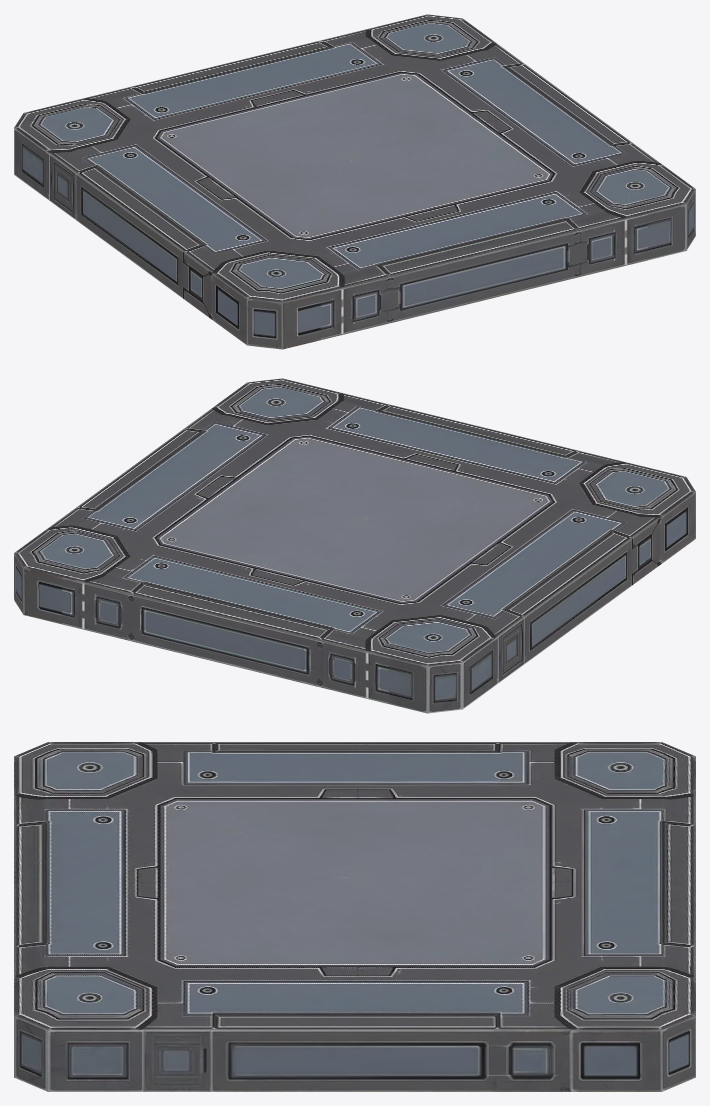
The model's file is floor_3.glb.
The picture shows the model from 3 angles, top to bottom: view 1: azimuth 30°, elevation 25°; view 2: azimuth 150°, elevation 25°; view 3: azimuth 270°, elevation 25°; orthographic projection. The views are drawn at different scales.
Parts seen in each view (by area): view 1: mesh_node; view 2: mesh_node; view 3: mesh_node.
Boxes of the visible parts, left/top/right/bottom form: mesh_node: left=14, top=14, right=695, bottom=349; mesh_node: left=14, top=378, right=695, bottom=713; mesh_node: left=14, top=742, right=695, bottom=1091.
Bounding box in the file's own units: 2 × 0.2219 × 2.
1 material, 1 textured.
